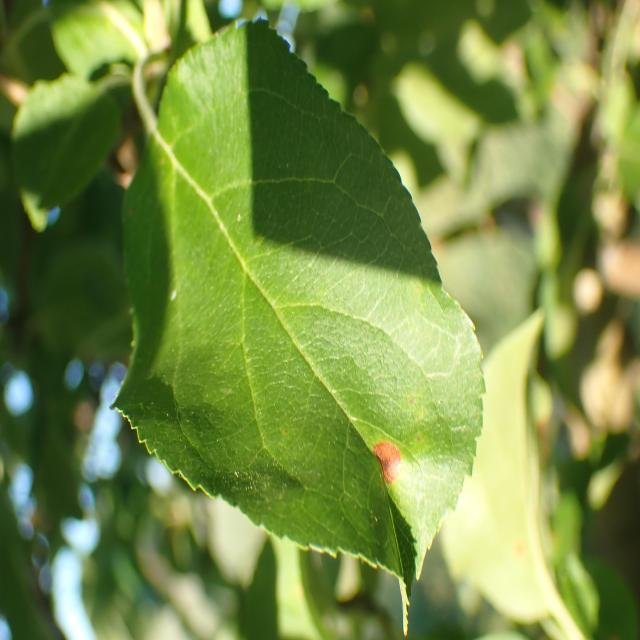Black Rot: (346, 421, 414, 490)
